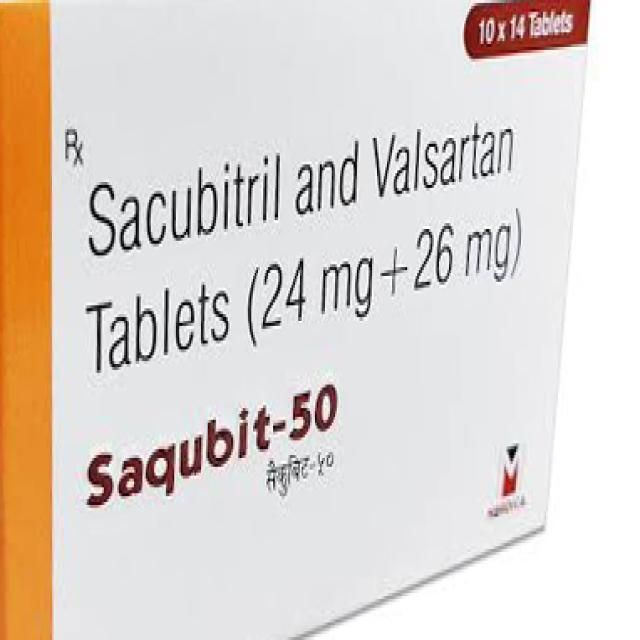drug-name: (83, 381, 341, 518)
